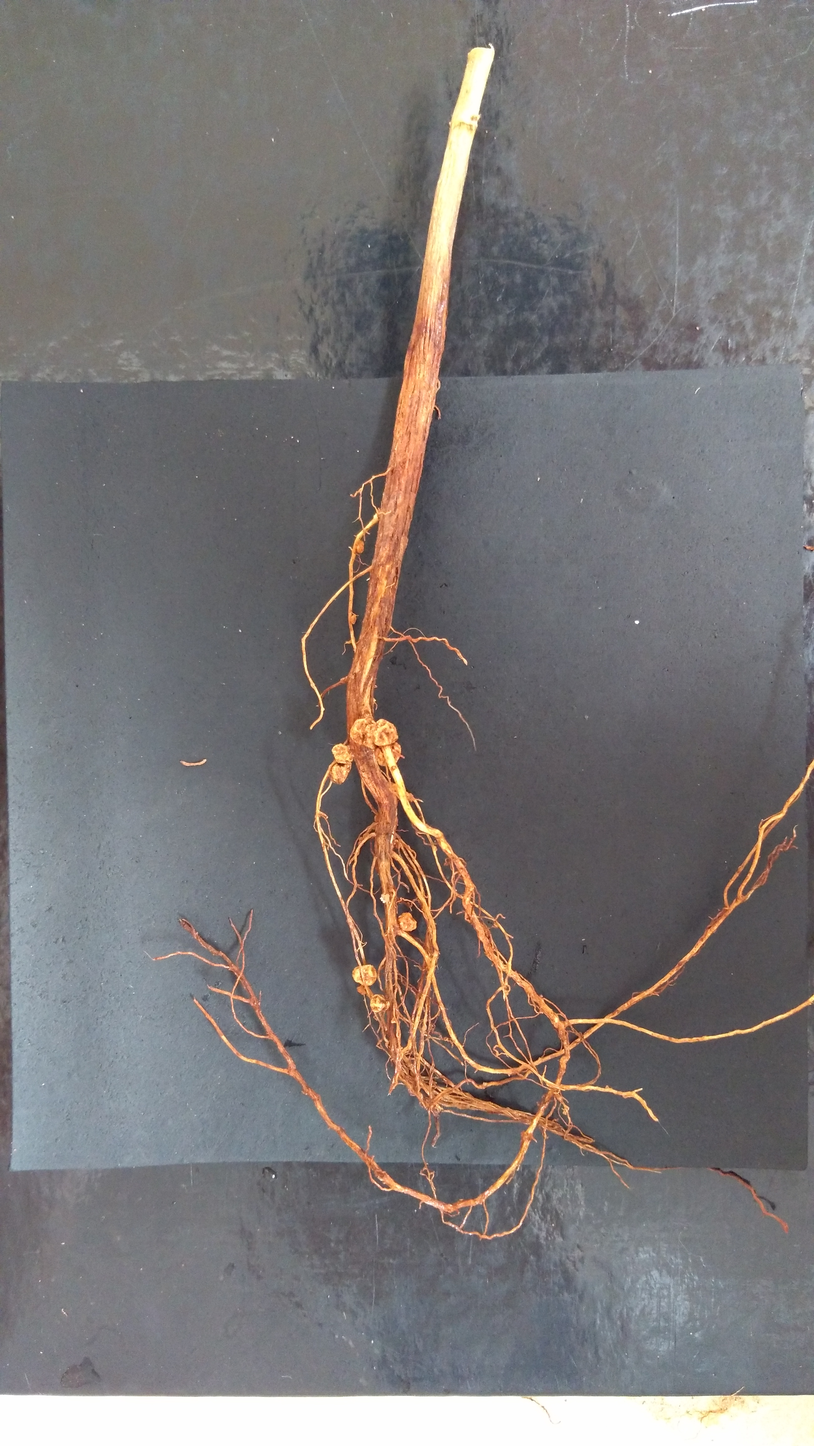nodule: (348, 719, 378, 749), (371, 719, 399, 747), (374, 741, 401, 767), (352, 964, 376, 986), (331, 743, 353, 764), (396, 912, 417, 931), (370, 994, 390, 1013), (385, 781, 399, 793), (520, 1129, 533, 1141), (559, 1054, 569, 1068), (356, 540, 365, 554), (379, 893, 390, 904), (393, 838, 402, 849), (356, 986, 367, 995), (406, 793, 414, 803), (350, 614, 357, 625), (390, 1017, 400, 1024), (374, 814, 380, 822), (362, 833, 369, 839), (371, 822, 377, 829), (358, 840, 364, 846), (358, 836, 364, 842), (434, 846, 437, 851)
